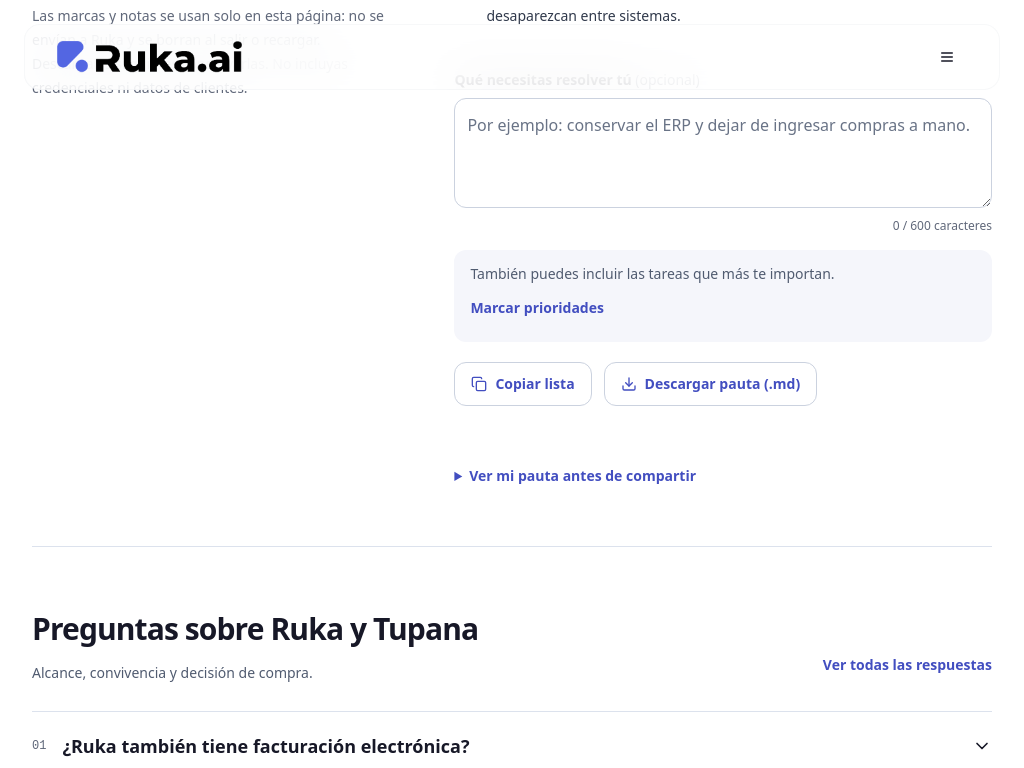
comparison interactions › shows a usable fallback when clipboard is unavailable
(page scrolled)
Click the button "Copiar lista" at coordinates (523, 384), box left=454, top=362, right=592, bottom=406
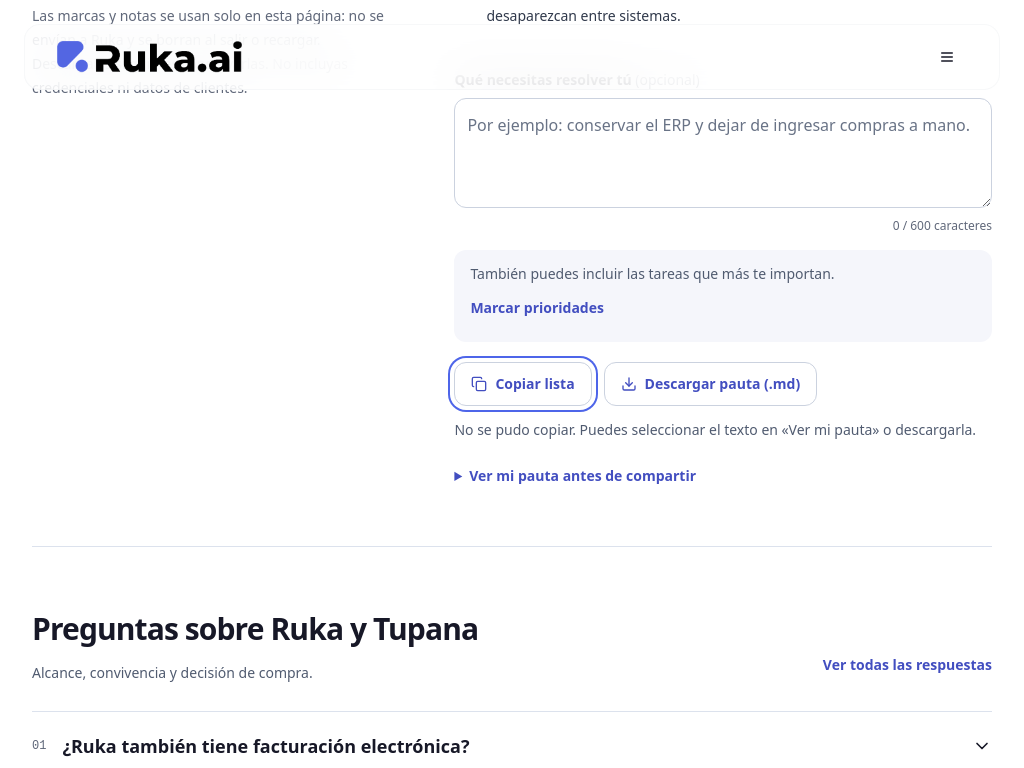
Check: the message shows "Puedes seleccionar el texto", box left=454, top=420, right=976, bottom=439
